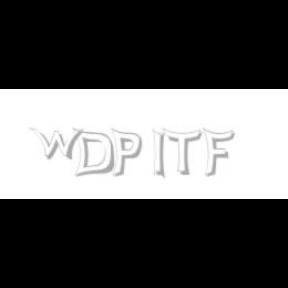D: (72, 128, 115, 178)
F: (202, 128, 234, 178)
I: (154, 128, 166, 180)
P: (110, 128, 142, 178)
T: (162, 128, 202, 176)
w: (30, 128, 88, 160)
